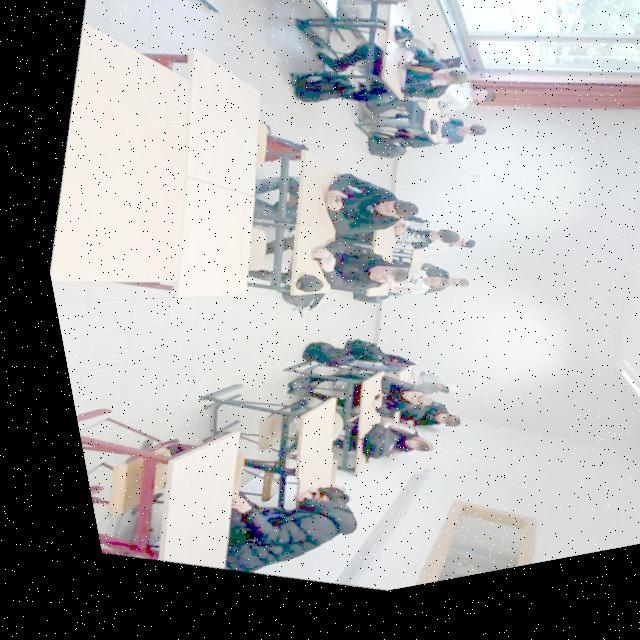daydreaming: (225, 486, 354, 570)
phone_use: (324, 173, 415, 254), (379, 373, 458, 424), (391, 214, 458, 267), (355, 263, 447, 301), (402, 46, 465, 96), (363, 422, 430, 456), (379, 401, 458, 424), (430, 117, 484, 142)
